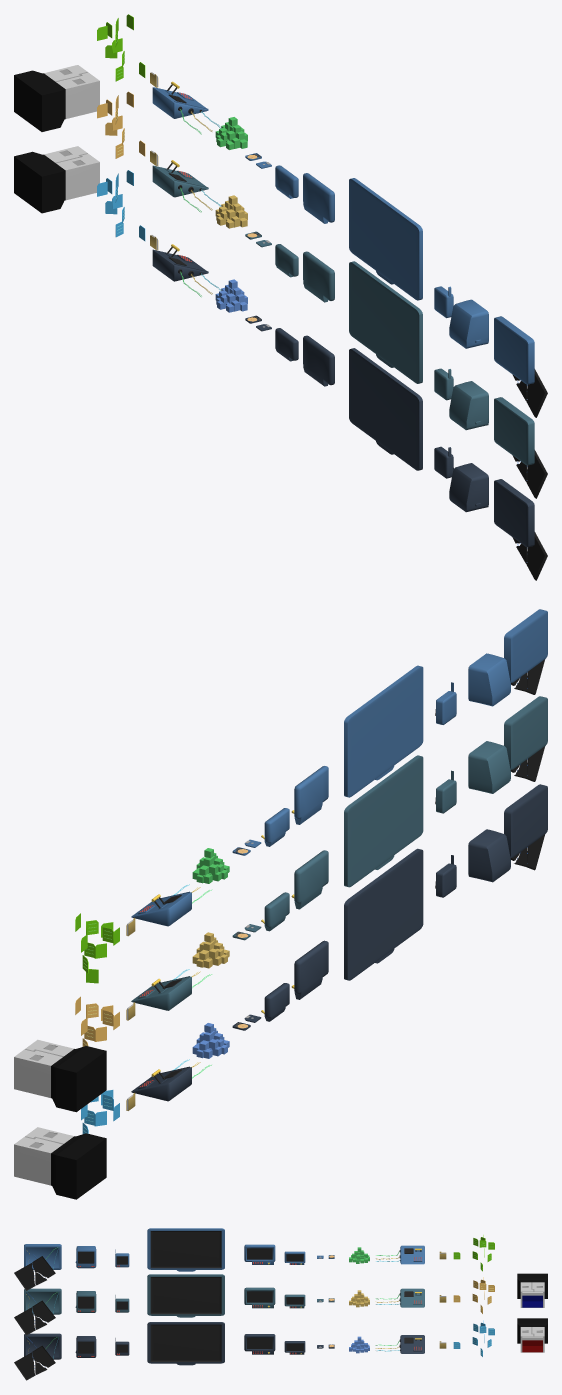
Rendered from пропы готовые окрашенные (для цх).fbx.
3 renders of one model, top to bottom at view 1: azimuth 30°, elevation 25°; view 2: azimuth 150°, elevation 25°; view 3: azimuth 270°, elevation 25°, orthographic. The views are drawn at different scales.
Visible parts, largest first — view 1: Cube.048, Cube.005, Cube.046, Cube.089, Cube.037, Vert.005, Cube.029, Cube.031, Cube.003, Cube.033, Cube.036, Cube.070 (+14 smaller); view 2: Cube.048, Cube.005, Cube.046, Cube.037, Cube.089, Cube.029, Vert.005, Cube.031, Cube.036, Cube.033, Cube.003, Cube.011 (+14 smaller); view 3: Cube.006, Cube.049, Cube.047, Cube.037, Cube.089, Vert.005, Cube.029, Cube.031, Cube.032, Cube.010, Cube.030, Cube.048 (+24 smaller).
Boxes of the visible parts, x1=… form: Cube.048: x1=349, y1=178, x2=422, y2=300; Cube.005: x1=349, y1=348, x2=422, y2=470; Cube.046: x1=349, y1=261, x2=422, y2=383; Cube.089: x1=14, y1=65, x2=99, y2=131; Cube.037: x1=14, y1=146, x2=99, y2=213; Vert.005: x1=494, y1=479, x2=534, y2=547; Cube.029: x1=494, y1=397, x2=534, y2=465; Cube.031: x1=494, y1=316, x2=534, y2=384; Cube.003: x1=449, y1=463, x2=488, y2=512; Cube.033: x1=449, y1=381, x2=488, y2=430; Cube.036: x1=449, y1=299, x2=488, y2=348; Cube.070: x1=303, y1=173, x2=334, y2=223; Cube.048: x1=344, y1=665, x2=423, y2=797; Cube.005: x1=344, y1=848, x2=423, y2=980; Cube.046: x1=344, y1=755, x2=423, y2=887; Cube.037: x1=14, y1=1127, x2=106, y2=1199; Cube.089: x1=14, y1=1039, x2=106, y2=1112; Cube.029: x1=504, y1=696, x2=547, y2=769; Vert.005: x1=504, y1=784, x2=547, y2=857; Cube.031: x1=504, y1=609, x2=547, y2=682; Cube.036: x1=468, y1=653, x2=510, y2=706; Cube.033: x1=468, y1=741, x2=510, y2=793; Cube.003: x1=468, y1=829, x2=510, y2=882; Cube.011: x1=291, y1=940, x2=328, y2=999; Cube.006: x1=150, y1=1324, x2=221, y2=1361; Cube.049: x1=150, y1=1231, x2=221, y2=1268; Cube.047: x1=150, y1=1277, x2=221, y2=1314; Cube.037: x1=517, y1=1318, x2=547, y2=1352; Cube.089: x1=517, y1=1273, x2=547, y2=1307; Vert.005: x1=24, y1=1333, x2=61, y2=1359; Cube.029: x1=24, y1=1288, x2=61, y2=1314; Cube.031: x1=24, y1=1244, x2=61, y2=1269; Cube.032: x1=14, y1=1256, x2=55, y2=1290; Cube.010: x1=14, y1=1345, x2=55, y2=1380; Cube.030: x1=14, y1=1300, x2=55, y2=1335; Cube.048: x1=147, y1=1228, x2=224, y2=1271.
Size of the model in its own units: 506 by 2131 by 6857.
